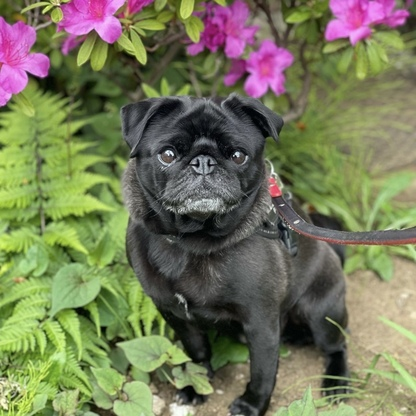Pug: (113, 88, 353, 416)
